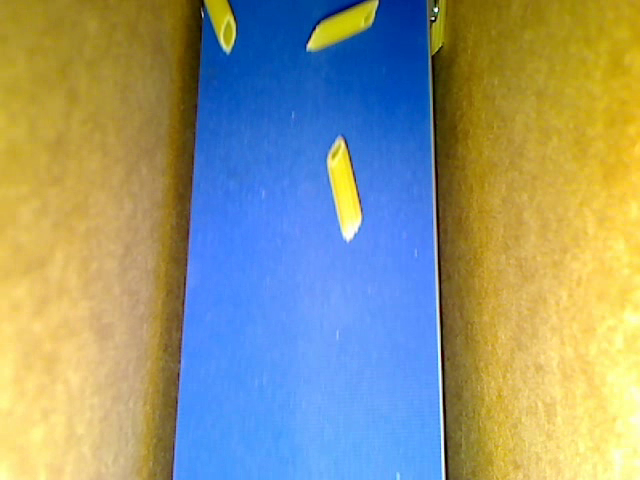penne: (323, 130, 361, 238), (309, 1, 378, 55), (200, 1, 238, 47), (426, 1, 448, 64)
